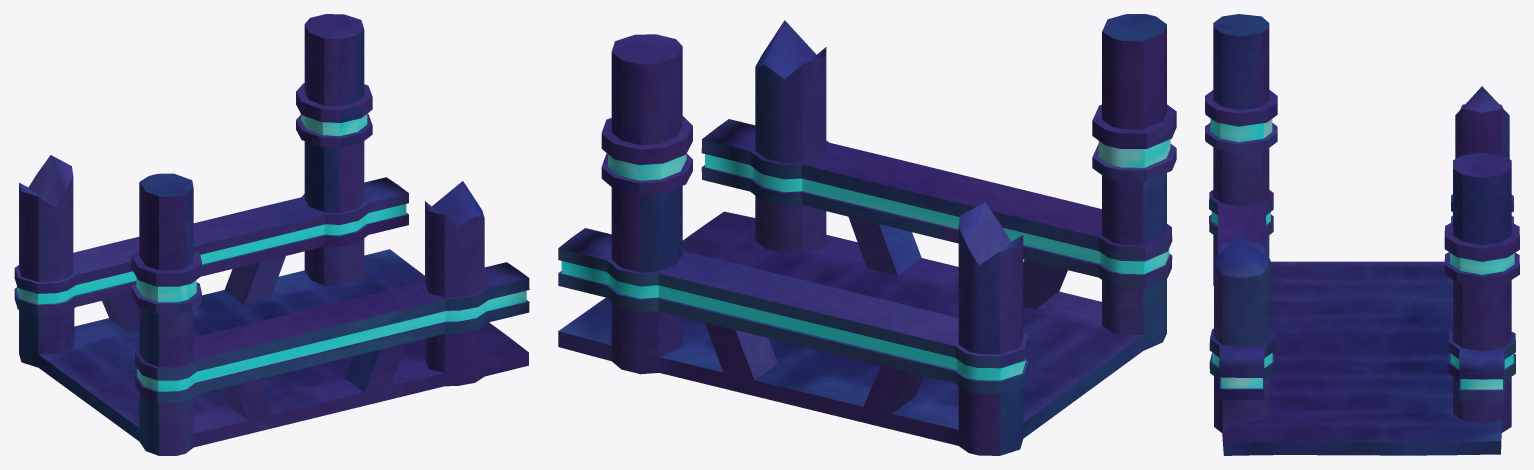
File: puente_modular.obj
The picture shows the model from 3 angles, left to right: view 1: azimuth 30°, elevation 25°; view 2: azimuth 150°, elevation 25°; view 3: azimuth 270°, elevation 25°; orthographic projection. The views are drawn at different scales.
Visible parts, largest first — view 1: broken_bridge_modular_broken_bridge_modularSG, broken_bridge_modular_broken_bridge_modularSG_7, broken_bridge_modular_broken_bridge_modularSG_2, broken_bridge_modular_broken_bridge_modularSG_8, broken_bridge_modular_broken_bridge_modularSG_1, broken_bridge_modular_broken_bridge_modularSG1, broken_bridge_modular_broken_bridge_modularSG_3, broken_bridge_modular_broken_bridge_modularSG1_1, broken_bridge_modular_broken_bridge_modularSG_9, broken_bridge_modular_broken_bridge_modularSG_5, broken_bridge_modular_broken_bridge_modularSG1_2, broken_bridge_modular_broken_bridge_modularSG1_7 (+4 smaller); view 2: broken_bridge_modular_broken_bridge_modularSG, broken_bridge_modular_broken_bridge_modularSG_7, broken_bridge_modular_broken_bridge_modularSG_2, broken_bridge_modular_broken_bridge_modularSG_8, broken_bridge_modular_broken_bridge_modularSG_1, broken_bridge_modular_broken_bridge_modularSG1, broken_bridge_modular_broken_bridge_modularSG1_1, broken_bridge_modular_broken_bridge_modularSG_5, broken_bridge_modular_broken_bridge_modularSG_3, broken_bridge_modular_broken_bridge_modularSG_9, broken_bridge_modular_broken_bridge_modularSG1_2, broken_bridge_modular_broken_bridge_modularSG1_7 (+5 smaller); view 3: broken_bridge_modular_broken_bridge_modularSG, broken_bridge_modular_broken_bridge_modularSG_7, broken_bridge_modular_broken_bridge_modularSG_8, broken_bridge_modular_broken_bridge_modularSG_2, broken_bridge_modular_broken_bridge_modularSG_3, broken_bridge_modular_broken_bridge_modularSG1_2, broken_bridge_modular_broken_bridge_modularSG_1, broken_bridge_modular_broken_bridge_modularSG_9, broken_bridge_modular_broken_bridge_modularSG1_7, broken_bridge_modular_broken_bridge_modularSG1, broken_bridge_modular_broken_bridge_modularSG1_1.
Boxes of the visible parts, x1,y1,x2,y2 form: broken_bridge_modular_broken_bridge_modularSG: (14, 14, 528, 455); broken_bridge_modular_broken_bridge_modularSG_7: (131, 25, 372, 273); broken_bridge_modular_broken_bridge_modularSG_2: (14, 193, 528, 392); broken_bridge_modular_broken_bridge_modularSG_8: (131, 92, 408, 313); broken_bridge_modular_broken_bridge_modularSG_1: (135, 312, 488, 402); broken_bridge_modular_broken_bridge_modularSG1: (137, 301, 486, 391); broken_bridge_modular_broken_bridge_modularSG_3: (240, 120, 372, 355); broken_bridge_modular_broken_bridge_modularSG1_1: (17, 215, 365, 304); broken_bridge_modular_broken_bridge_modularSG_9: (366, 214, 529, 299); broken_bridge_modular_broken_bridge_modularSG_5: (193, 212, 302, 328); broken_bridge_modular_broken_bridge_modularSG1_2: (136, 277, 196, 302); broken_bridge_modular_broken_bridge_modularSG1_7: (301, 114, 367, 136); broken_bridge_modular_broken_bridge_modularSG: (558, 14, 1172, 455); broken_bridge_modular_broken_bridge_modularSG_7: (602, 25, 1176, 287); broken_bridge_modular_broken_bridge_modularSG_2: (559, 140, 1171, 393); broken_bridge_modular_broken_bridge_modularSG_8: (558, 112, 1176, 271); broken_bridge_modular_broken_bridge_modularSG_1: (750, 179, 1172, 287); broken_bridge_modular_broken_bridge_modularSG1: (753, 167, 1169, 274); broken_bridge_modular_broken_bridge_modularSG1_1: (609, 274, 1025, 380); broken_bridge_modular_broken_bridge_modularSG_5: (732, 198, 1023, 318); broken_bridge_modular_broken_bridge_modularSG_3: (601, 160, 1049, 216); broken_bridge_modular_broken_bridge_modularSG_9: (558, 119, 755, 297); broken_bridge_modular_broken_bridge_modularSG1_2: (1098, 139, 1170, 167); broken_bridge_modular_broken_bridge_modularSG1_7: (608, 154, 686, 180); broken_bridge_modular_broken_bridge_modularSG: (1209, 14, 1515, 455); broken_bridge_modular_broken_bridge_modularSG_7: (1205, 27, 1519, 248); broken_bridge_modular_broken_bridge_modularSG_8: (1205, 100, 1519, 377); broken_bridge_modular_broken_bridge_modularSG_2: (1209, 190, 1515, 401); broken_bridge_modular_broken_bridge_modularSG_3: (1217, 235, 1519, 286); broken_bridge_modular_broken_bridge_modularSG1_2: (1210, 118, 1272, 142); broken_bridge_modular_broken_bridge_modularSG_1: (1209, 221, 1274, 400); broken_bridge_modular_broken_bridge_modularSG_9: (1219, 346, 1504, 390); broken_bridge_modular_broken_bridge_modularSG1_7: (1450, 253, 1514, 274); broken_bridge_modular_broken_bridge_modularSG1: (1211, 211, 1272, 388); broken_bridge_modular_broken_bridge_modularSG1_1: (1451, 354, 1513, 389).
Bounding box in the file's own units: 247 × 160 × 176.
Materials: 2 (2 with a texture image).
